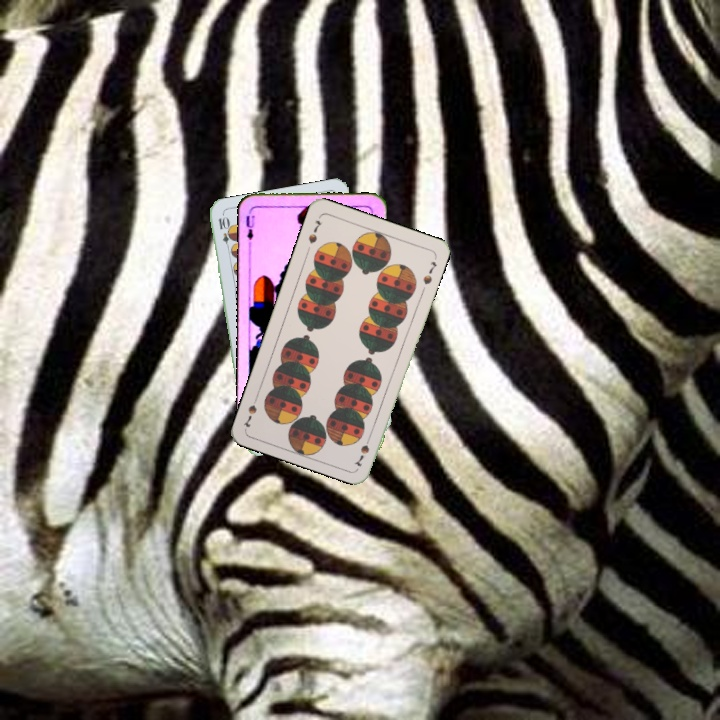E10: (214, 213, 234, 253)
EU: (242, 207, 257, 247)
S7: (350, 430, 374, 469), (304, 216, 324, 246)
